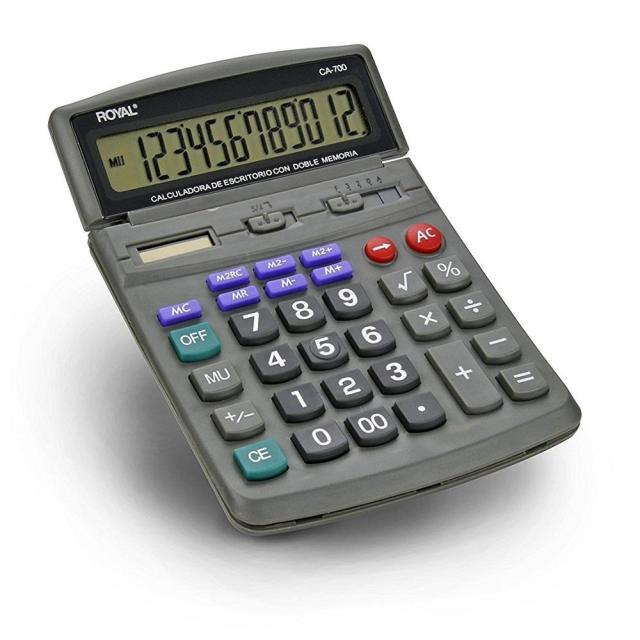Calculator: (35, 17, 640, 506)
